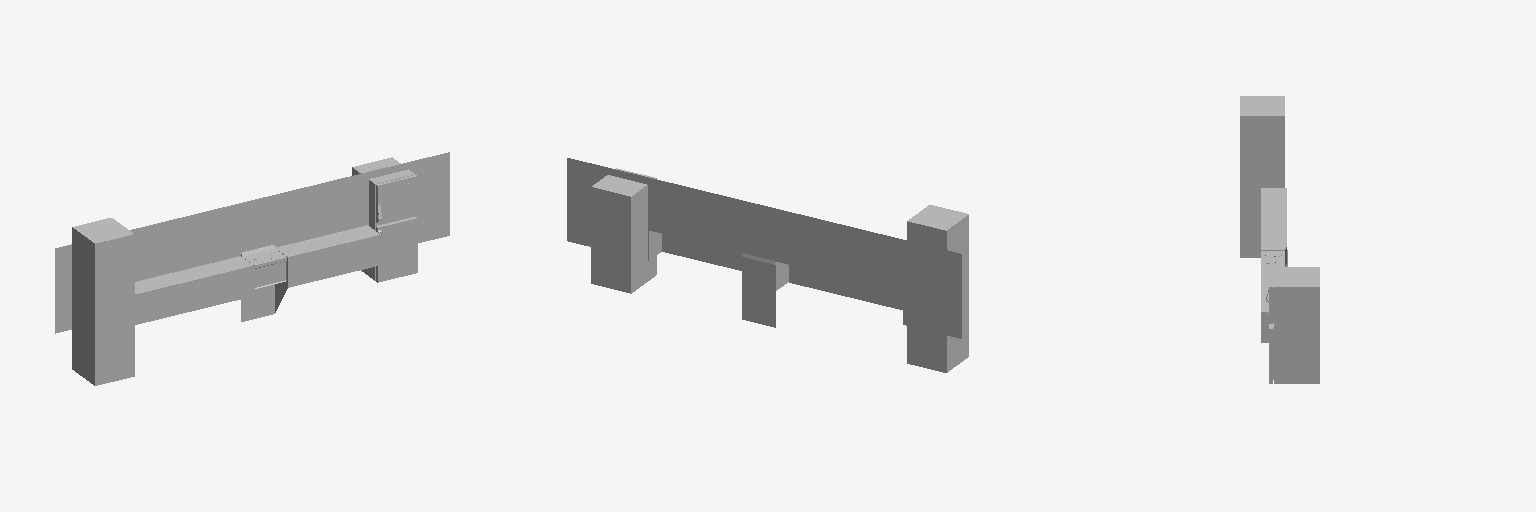
The model's file is table.obj.
The picture shows the model from 3 angles: view 1: azimuth 30°, elevation 25°; view 2: azimuth 150°, elevation 25°; view 3: azimuth 270°, elevation 25°; orthographic projection.
Parts seen in each view (by area): view 1: Plane, Cube_Cube.001, Cube.001_Cube.002; view 2: Plane, Cube_Cube.001; view 3: Plane, Cube_Cube.001.
Boxes of the visible parts, <box> form: Plane: <box>55,152,449,385</box>; Cube_Cube.001: <box>352,157,417,282</box>; Cube.001_Cube.002: <box>241,245,286,288</box>; Plane: <box>567,158,968,372</box>; Cube_Cube.001: <box>591,168,656,293</box>; Plane: <box>1240,96,1286,342</box>; Cube_Cube.001: <box>1266,267,1319,383</box>.
Bounding box in the file's own units: 140 × 48.33 × 24.89.